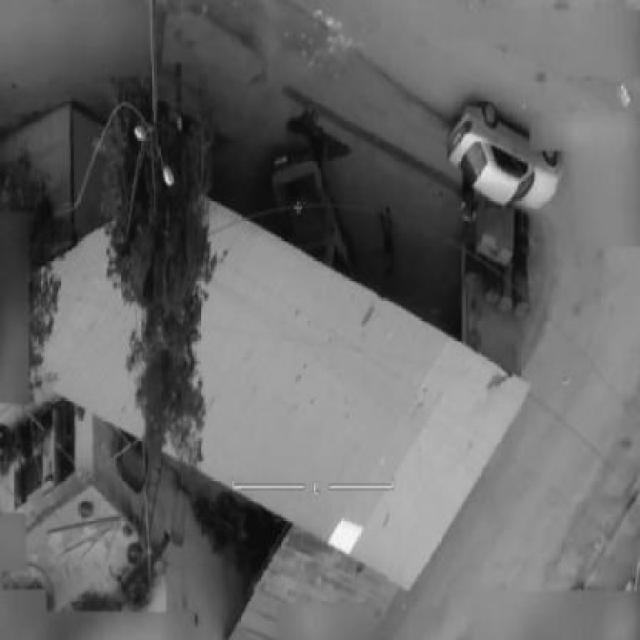Person: (377, 207, 397, 280), (454, 179, 477, 233)
Vehicle: (447, 104, 564, 215), (267, 152, 349, 259)
